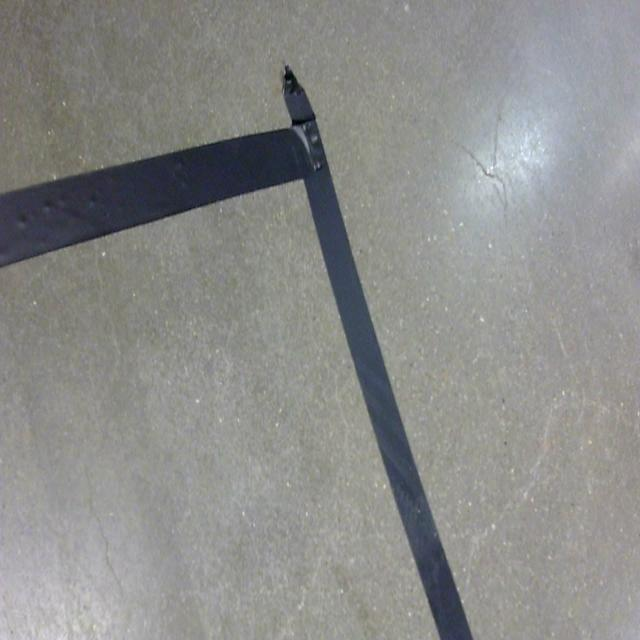tape: (0, 29, 487, 640)
